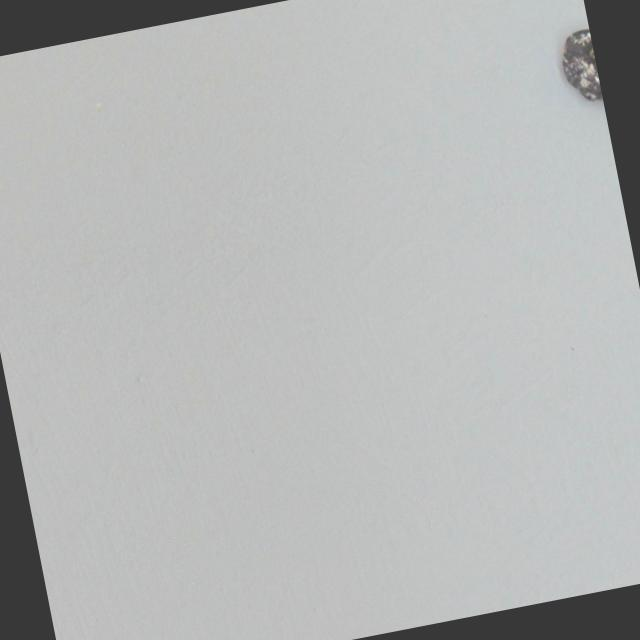cuerpos_extranos: (543, 15, 606, 123)
